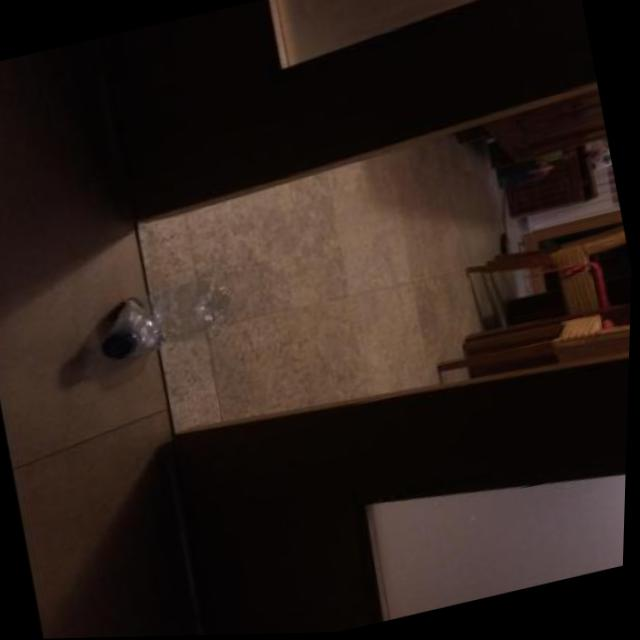plastic: (89, 271, 238, 365)
